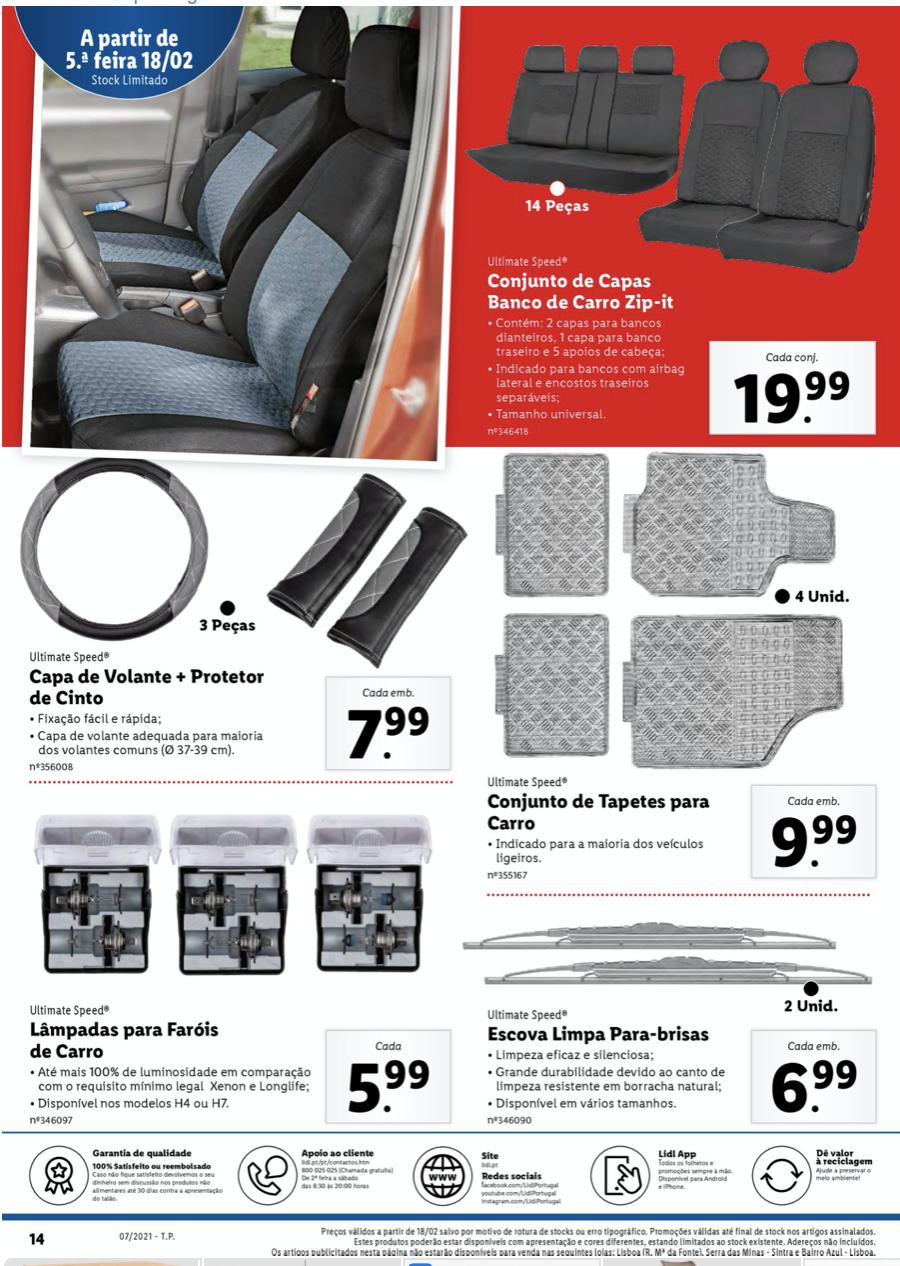name: (25, 666, 267, 709), (484, 788, 712, 832), (485, 268, 684, 313), (23, 1019, 223, 1060), (484, 1023, 715, 1049)
price: (726, 371, 856, 429), (765, 810, 860, 876), (340, 702, 435, 766), (770, 1057, 859, 1123), (343, 1060, 432, 1119)
product: (459, 438, 893, 891), (460, 19, 884, 459), (15, 444, 479, 780), (12, 798, 462, 1134), (460, 904, 885, 1132)
